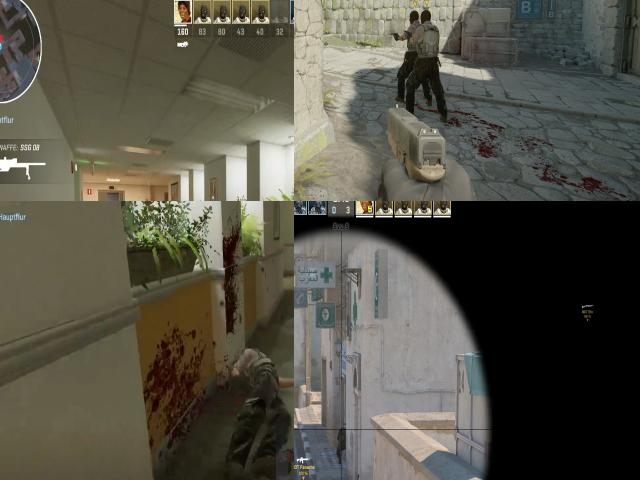CT: (336, 422, 346, 463)
CT-Head: (342, 422, 346, 430)
Dead: (242, 338, 294, 472)
T: (411, 6, 442, 114), (398, 7, 422, 101)
T-Head: (418, 7, 433, 30), (406, 10, 419, 26)
